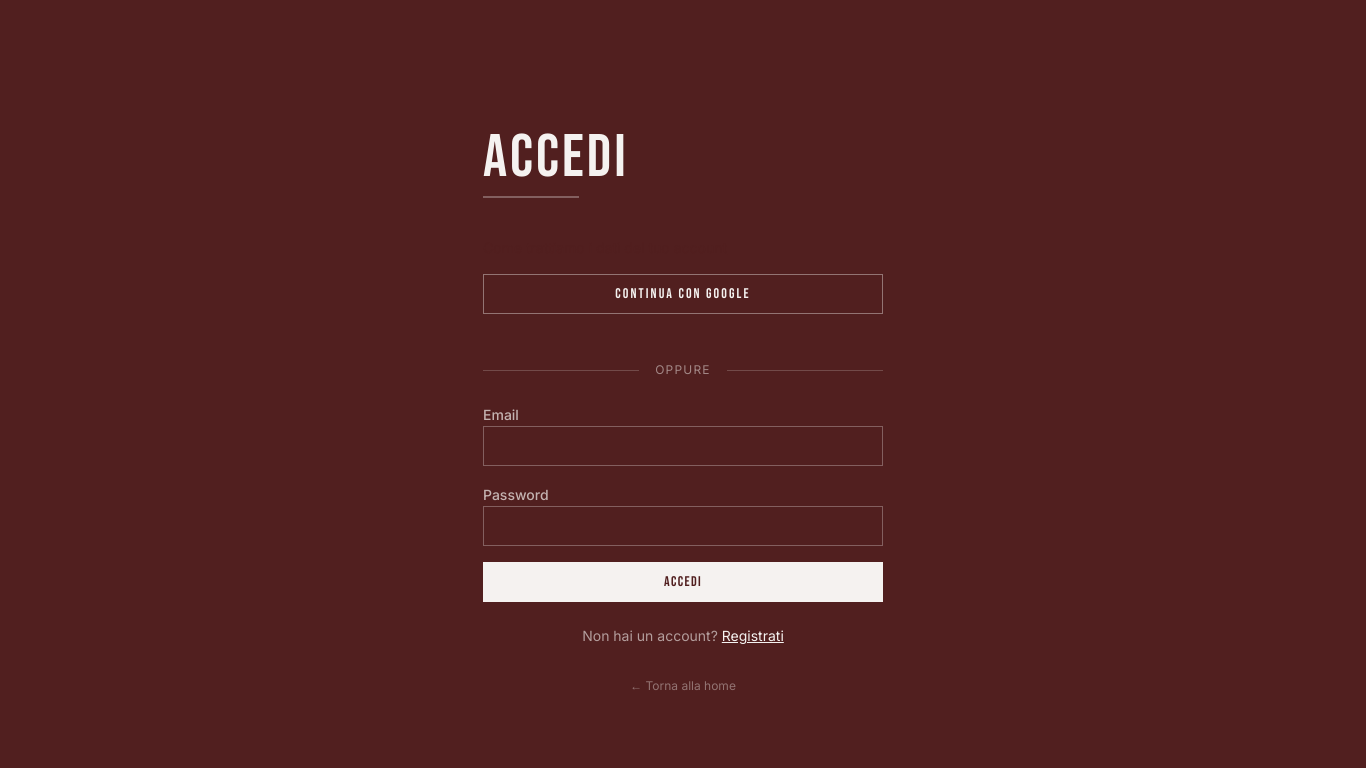
Test case: authentication UI with a simulated service › returns to the requested internal page after sign-in
The width and height of the screenshot is (1366, 768).
Type "test@example.invalid" into the field labelled "Email" at (683, 446), box top-left (483, 426), bottom-right (883, 466)
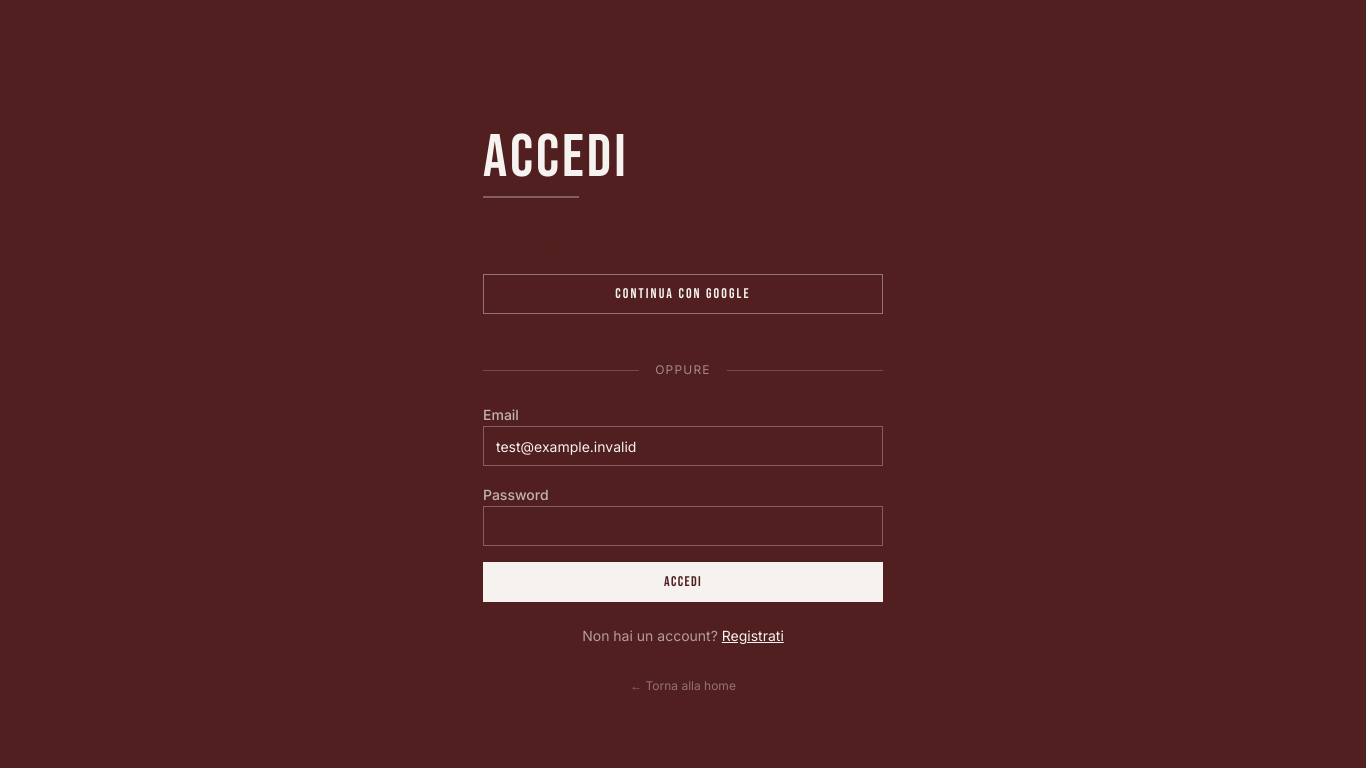
Type "synthetic-password" into the password field labelled "Password" at (683, 526), box top-left (483, 506), bottom-right (883, 546)
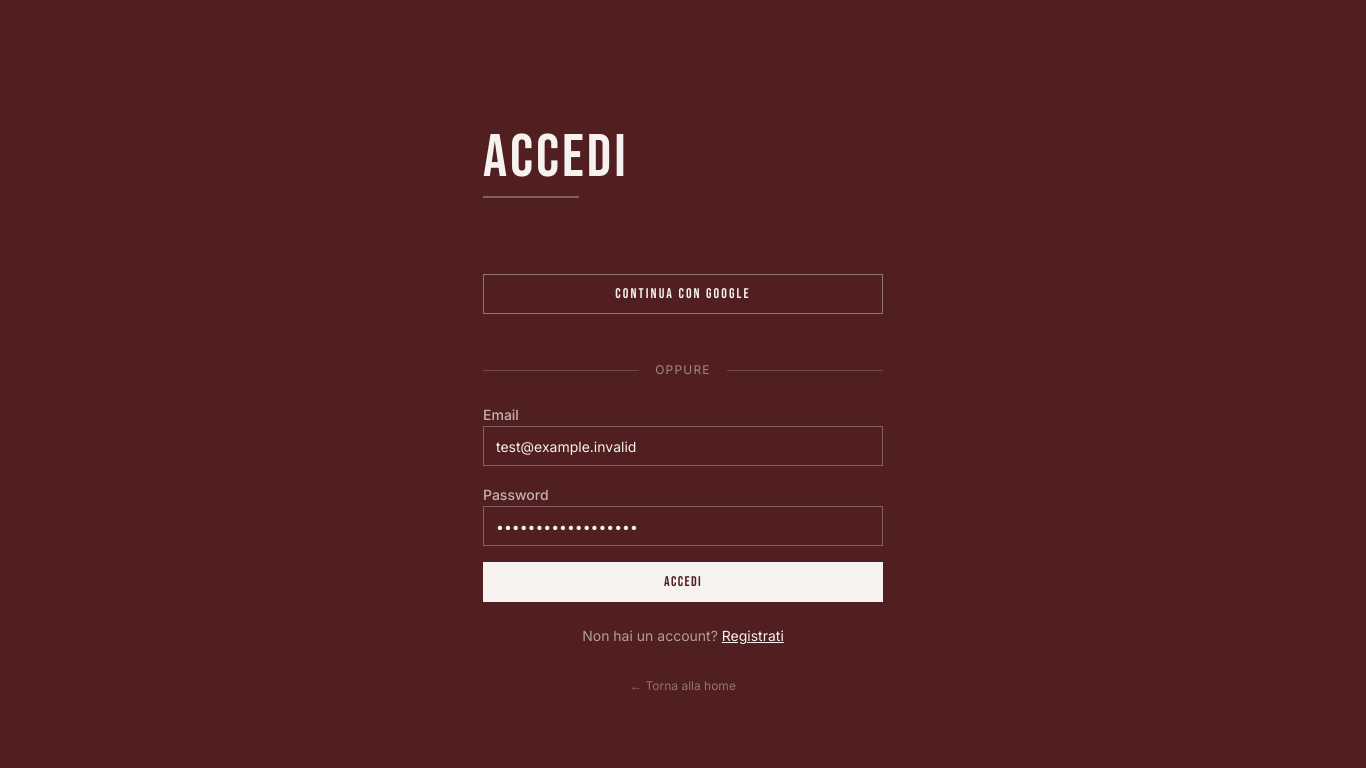
Submit the form "ACCEDI", box top-left (483, 402), bottom-right (883, 602)
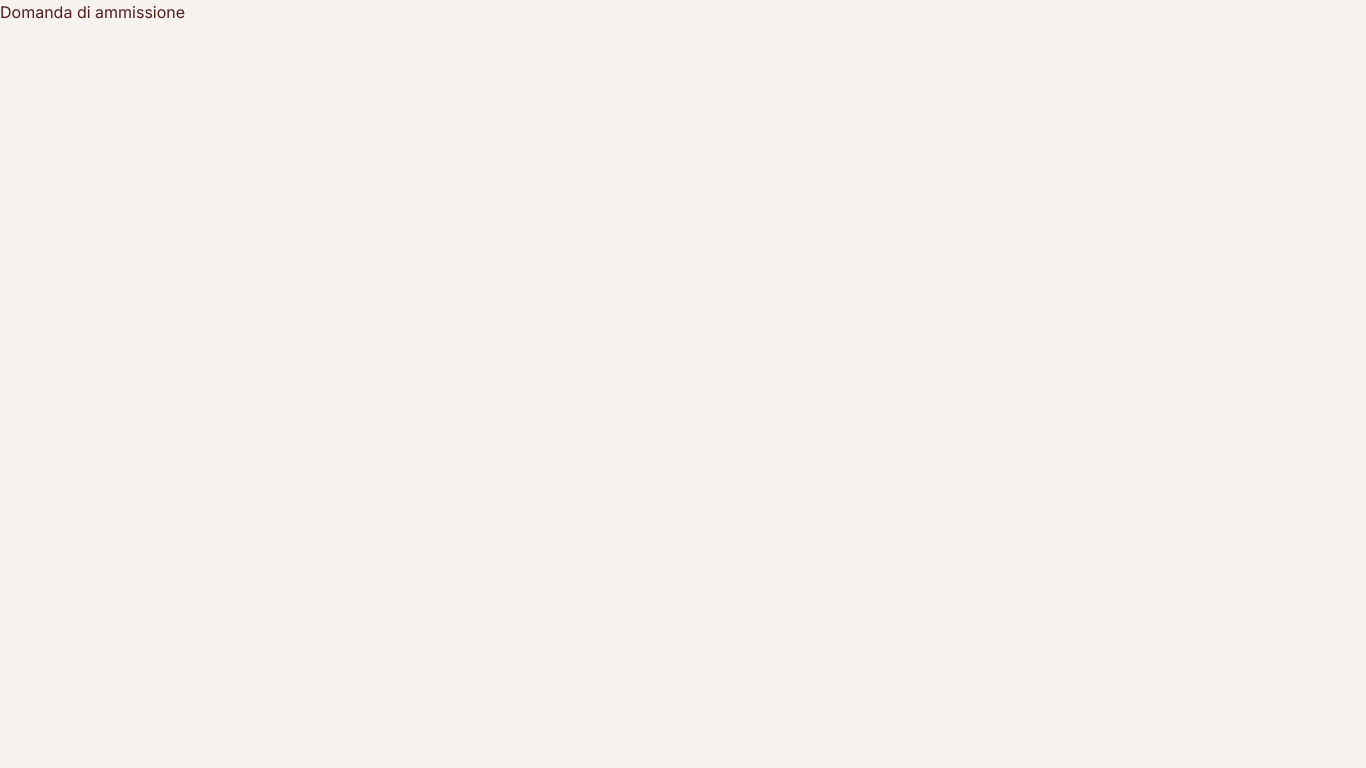
Expected: the text "Domanda di ammissione" is shown, top-left (0, 2), bottom-right (185, 22)
